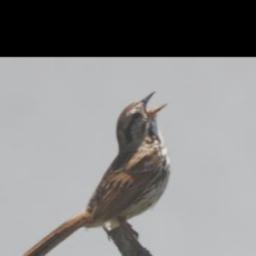Sparrow: (13, 89, 170, 256)
